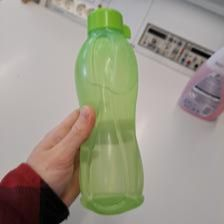bottle: (77, 8, 146, 216)
